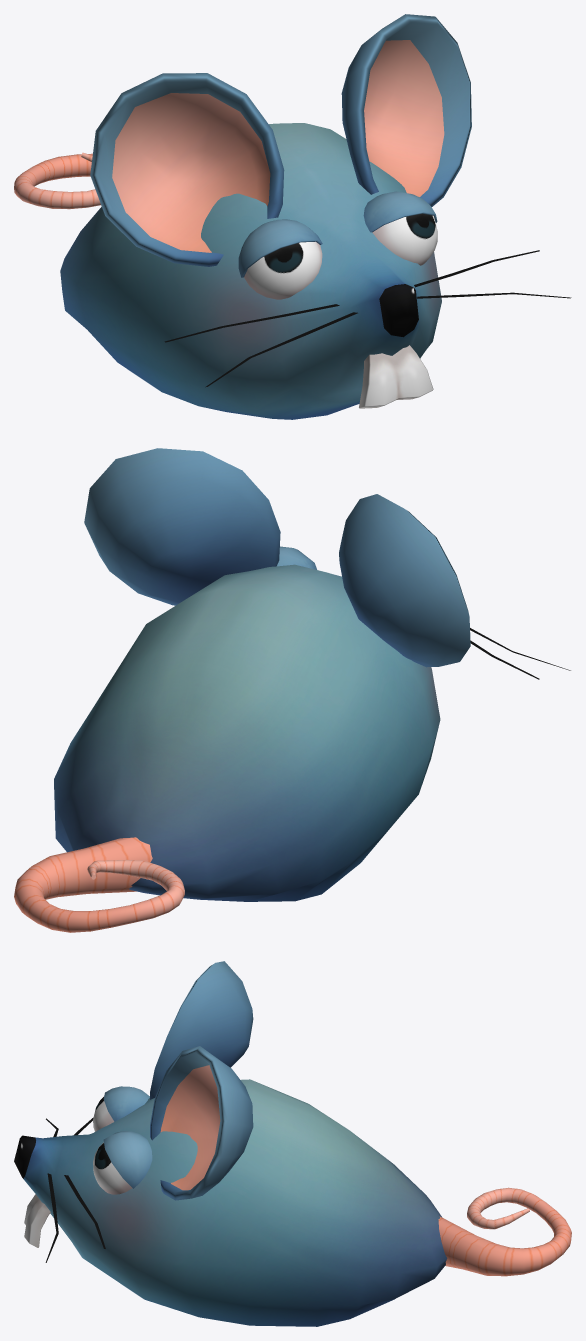
The model's file is New_Nezumi.fbx.
3 renders of one model, top to bottom at view 1: azimuth 30°, elevation 25°; view 2: azimuth 150°, elevation 25°; view 3: azimuth 270°, elevation 25°, orthographic. The views are drawn at different scales.
Parts seen in each view (by area): view 1: polySurface11; view 2: polySurface11; view 3: polySurface11.
Boxes of the visible parts, left/top/right/bottom form: polySurface11: left=14, top=14, right=571, bottom=419; polySurface11: left=14, top=448, right=570, bottom=932; polySurface11: left=14, top=961, right=571, bottom=1326.
Size of the model in its own units: 41.14 by 36.16 by 64.5.
